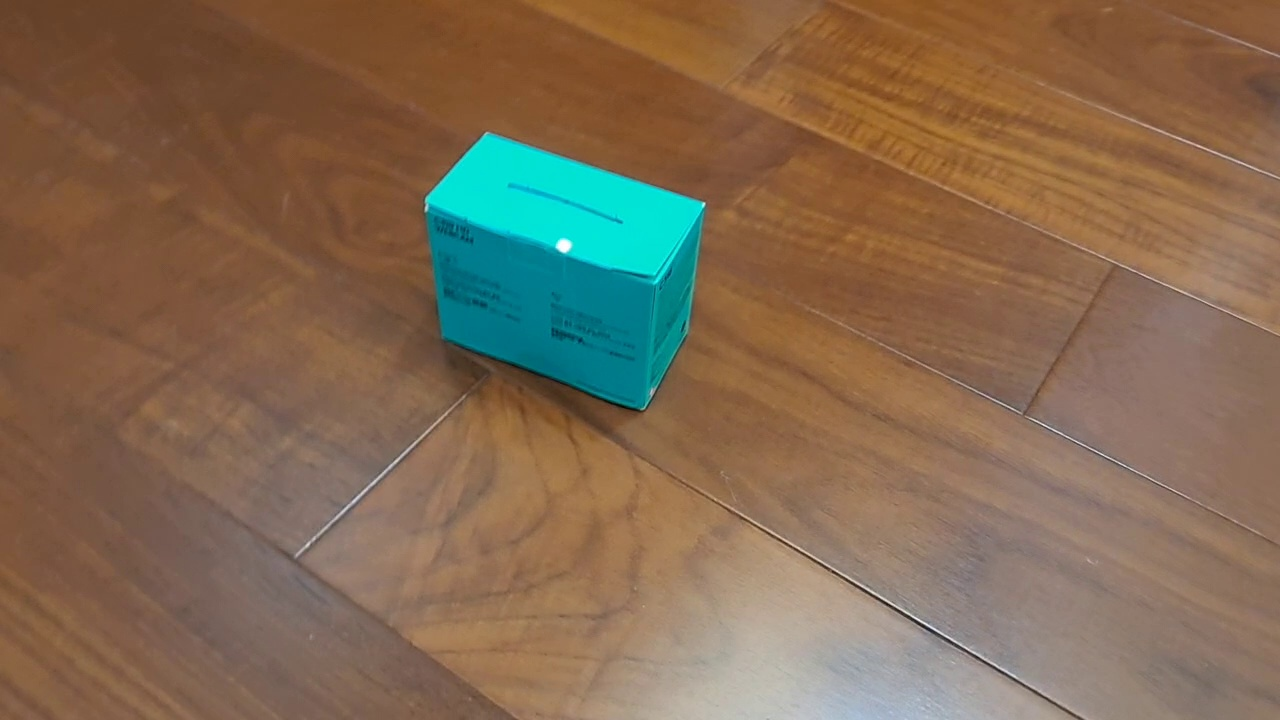webcam: (421, 129, 708, 414)
